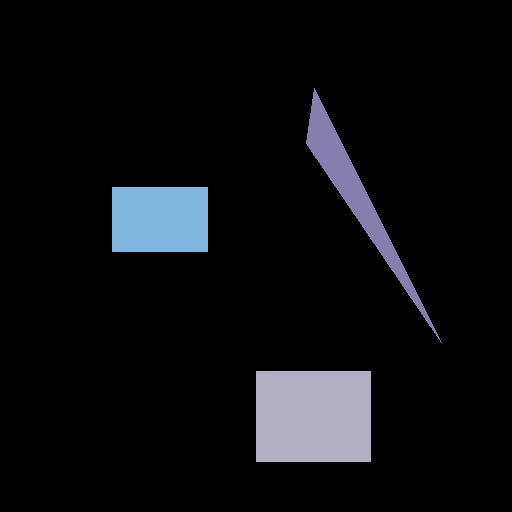rectangle: (256, 371, 370, 461), (112, 187, 207, 251)
triangle: (306, 88, 441, 342)
